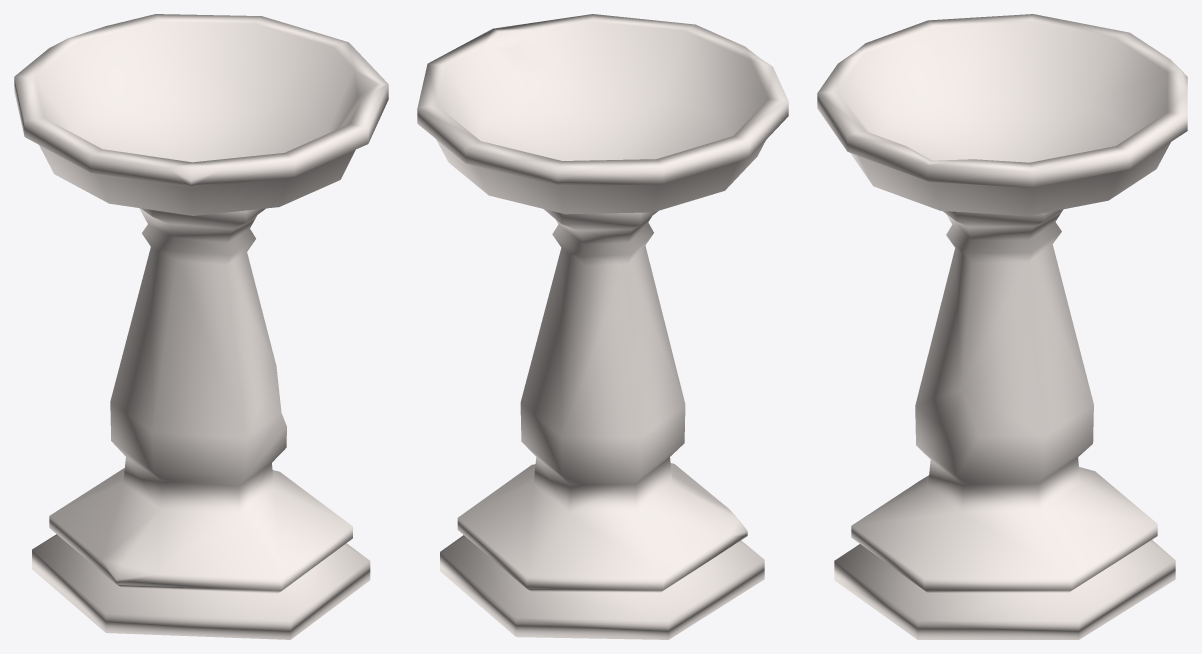
File: SM_Birdbath_01.obj
3 views of the same model, side by side, from view 1: azimuth 30°, elevation 25°; view 2: azimuth 150°, elevation 25°; view 3: azimuth 270°, elevation 25° (orthographic).
Parts seen in each view (by area): view 1: SM_Birdbath_01_Mat_SwatchOverlay_PolygonCity_Airship_Inst; view 2: SM_Birdbath_01_Mat_SwatchOverlay_PolygonCity_Airship_Inst; view 3: SM_Birdbath_01_Mat_SwatchOverlay_PolygonCity_Airship_Inst.
Boxes of the visible parts, x1,y1,x2,y2 form: SM_Birdbath_01_Mat_SwatchOverlay_PolygonCity_Airship_Inst: [14, 14, 388, 639]; SM_Birdbath_01_Mat_SwatchOverlay_PolygonCity_Airship_Inst: [417, 14, 788, 639]; SM_Birdbath_01_Mat_SwatchOverlay_PolygonCity_Airship_Inst: [817, 14, 1187, 639].
Bounding box in the file's own units: 0.5525 × 0.7933 × 0.5469.
1 material, 1 textured.
